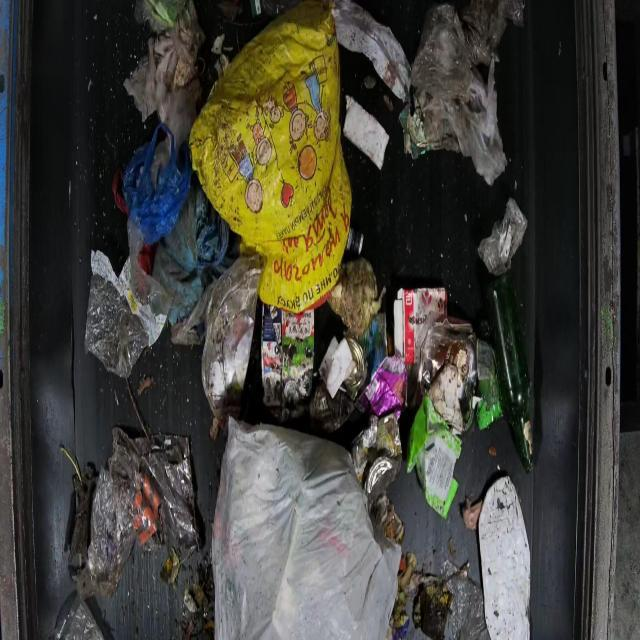other-trash: (54, 0, 538, 638)
